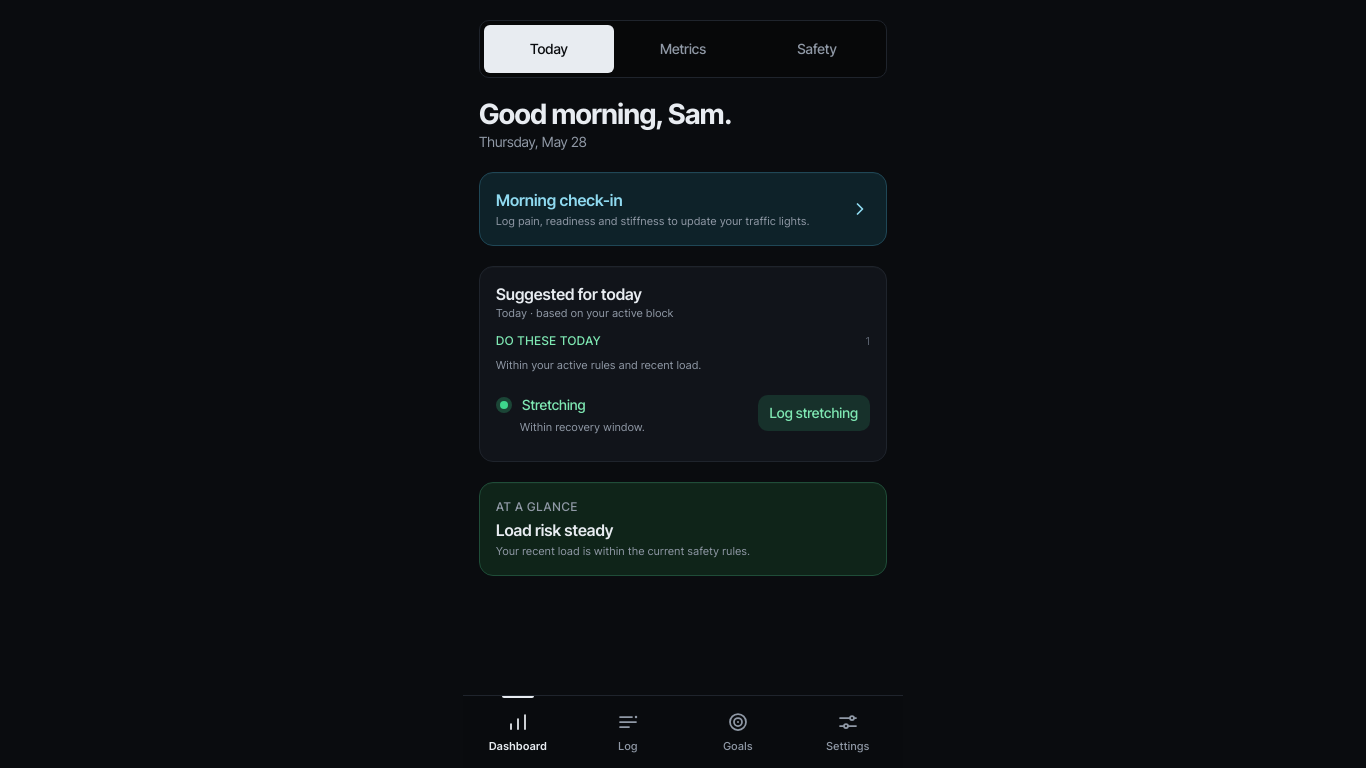
Test: Dashboard suggestion → InlineLogSheet quick log (C6.3 / F9.10) › does not apply stale prefill when opening Log Activity from the Log tab
Click the button "Log stretching": (814, 413) [758, 395, 870, 431]
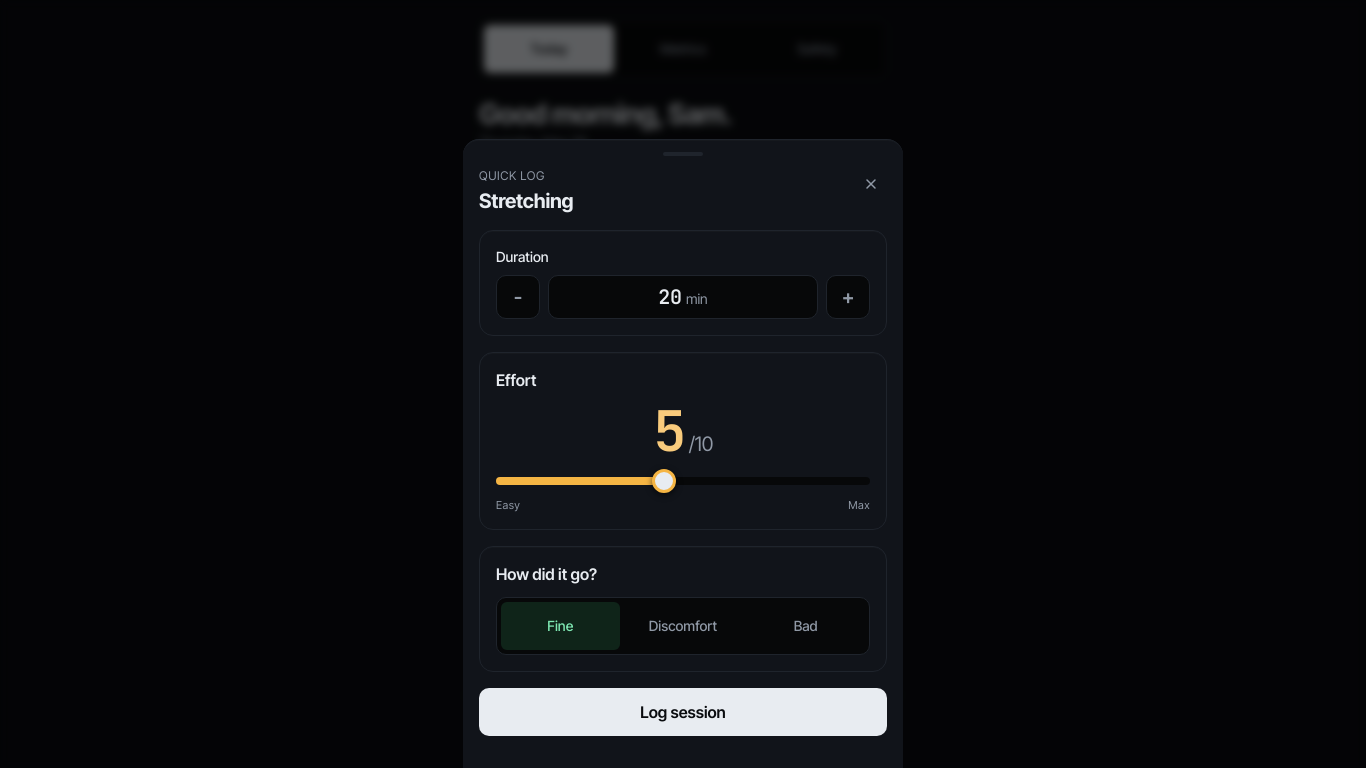
Expected: the heading "Log Activity" is not shown
Click the button named "Close": (871, 184) [855, 168, 887, 200]
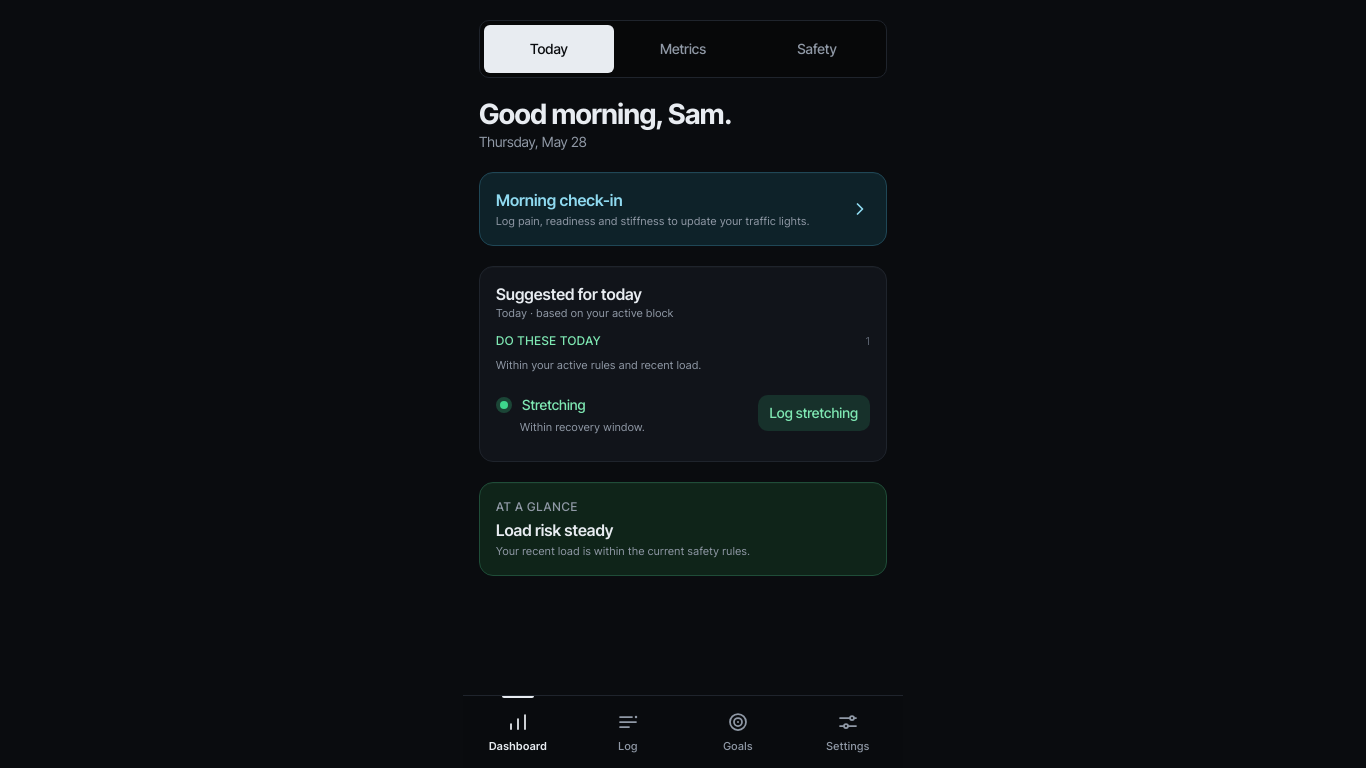
Click the button "Log": (628, 732) [573, 696, 683, 767]
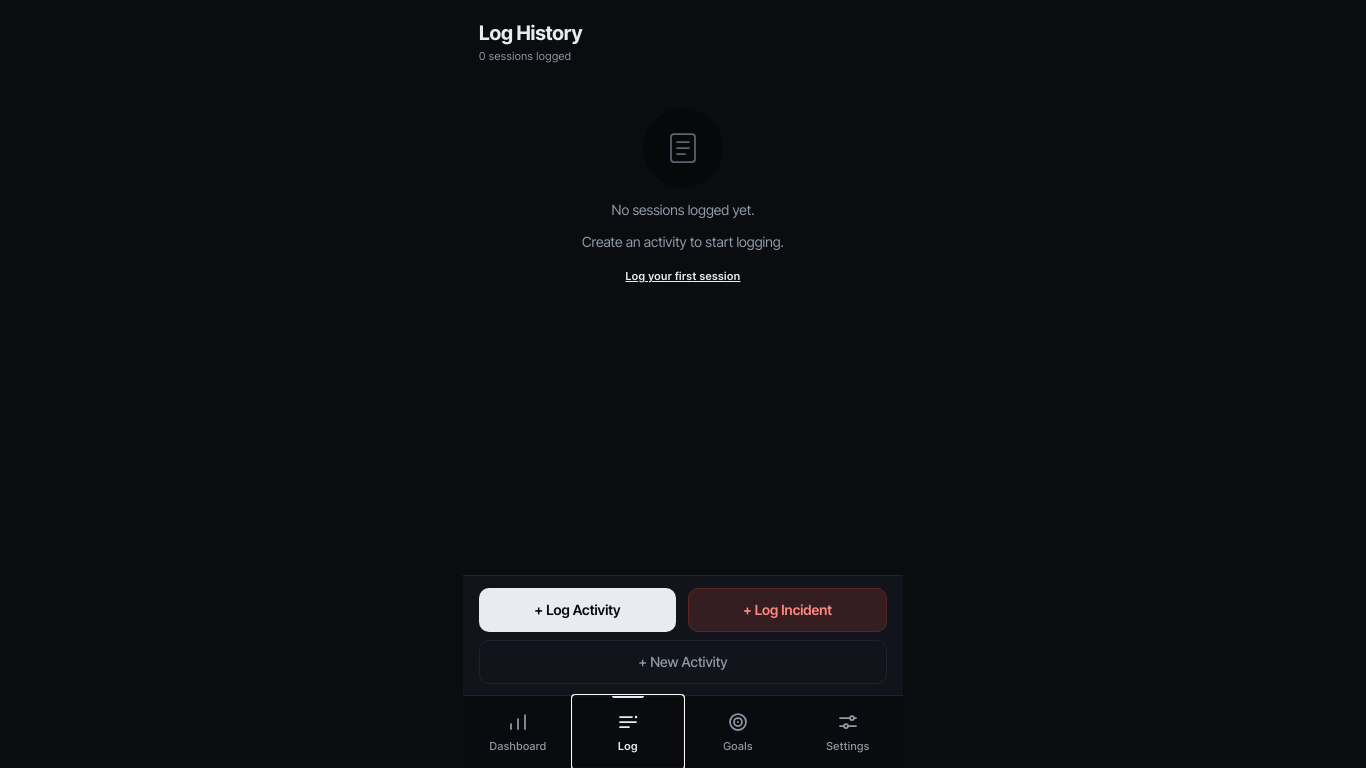
Click the button "+ Log Activity": (578, 610) [479, 588, 676, 632]
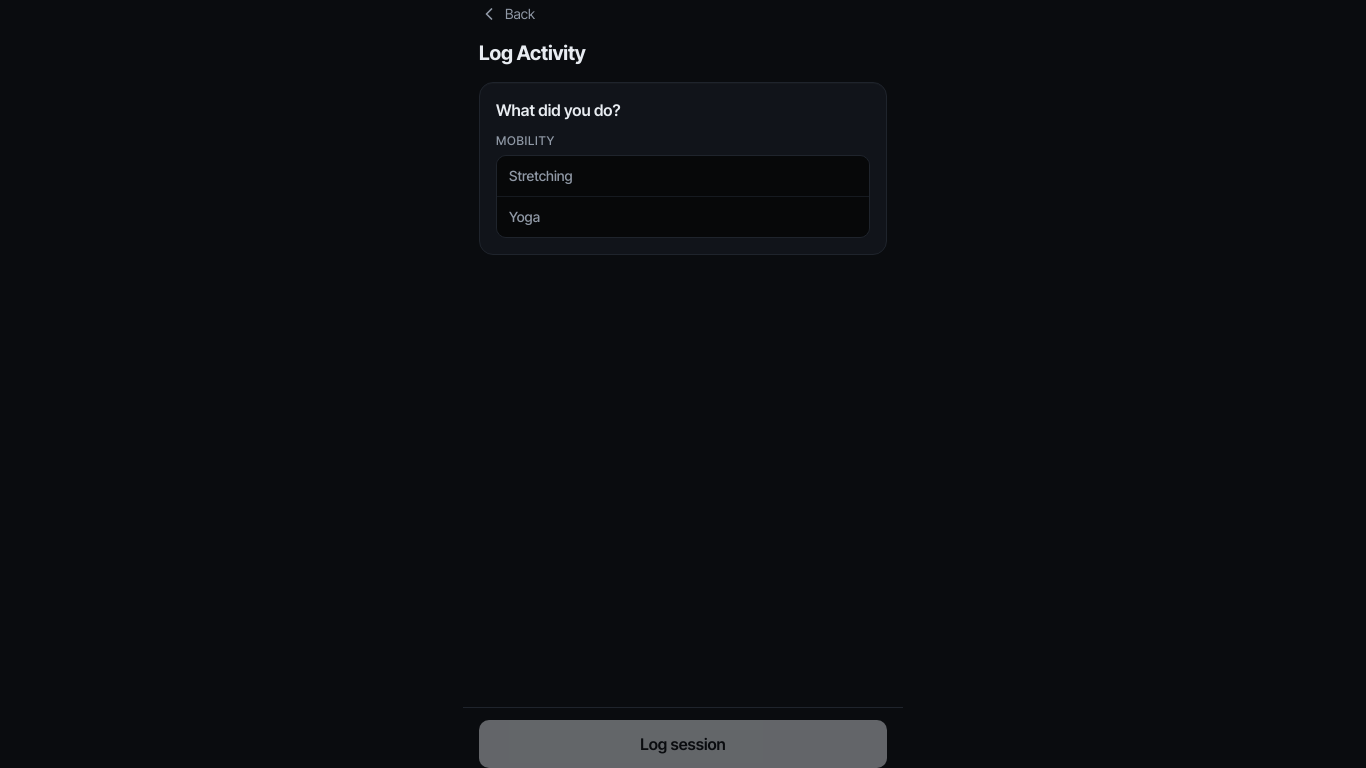
Expected: the heading "Log Activity" is shown, [479, 41, 586, 65]
